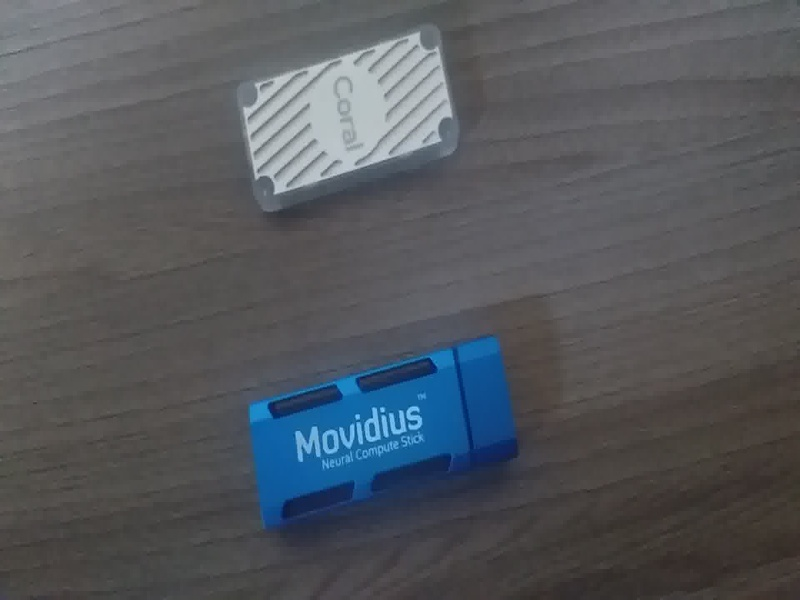coral: (219, 28, 495, 212)
movidius: (226, 328, 535, 532)
